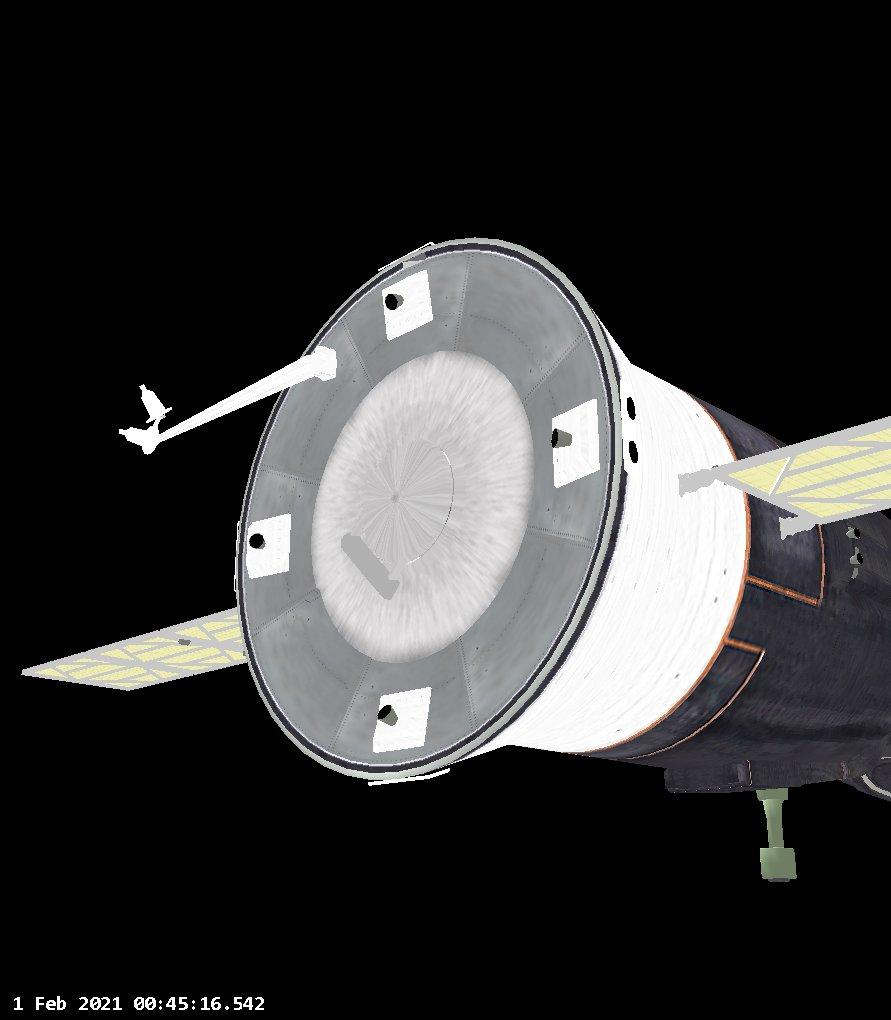antenna: (117, 342, 344, 459), (755, 784, 801, 885)
body: (232, 238, 891, 801)
solar: (20, 605, 252, 693), (717, 411, 891, 526)
thruster: (547, 426, 575, 448), (376, 704, 399, 729), (382, 291, 406, 311), (247, 531, 268, 552), (844, 525, 862, 539), (848, 553, 864, 568)
